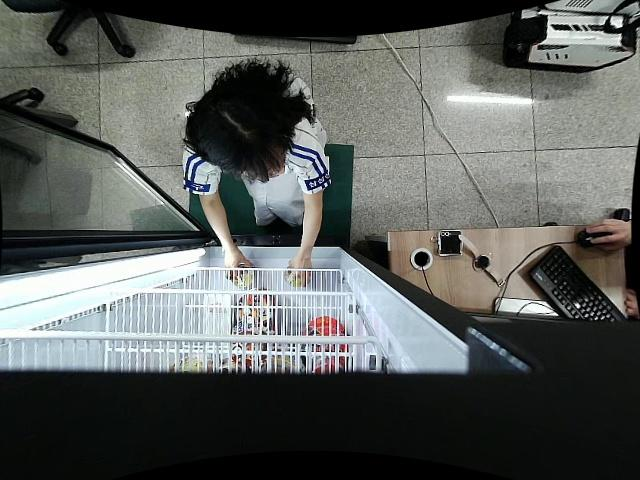00_hand: (220, 248, 255, 281), (285, 255, 315, 287)
